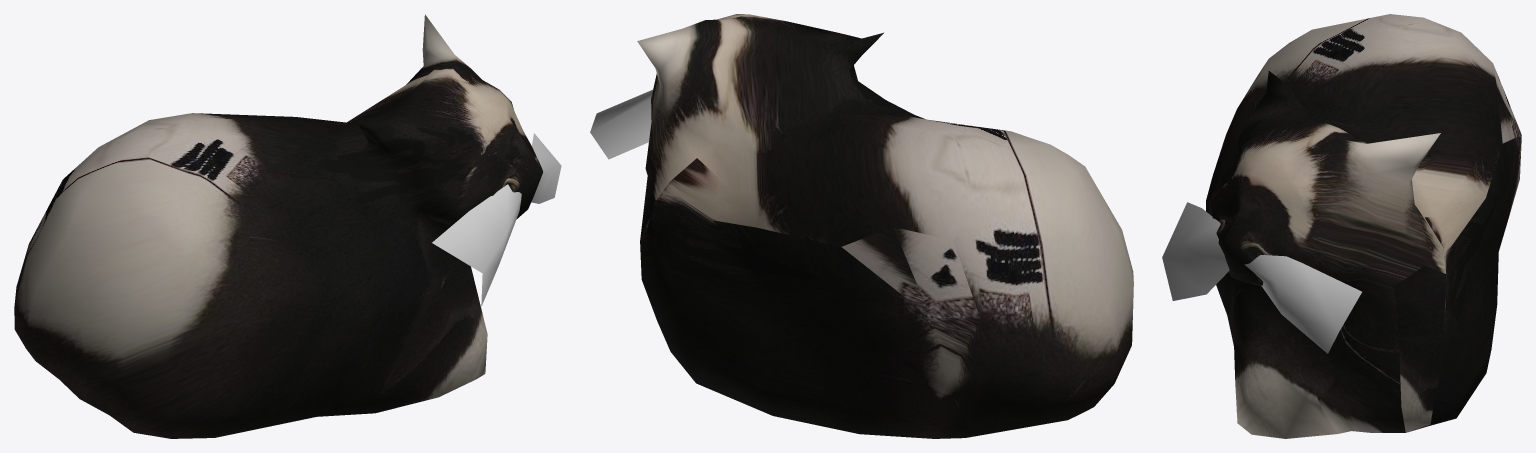
The model's file is maxwell.obj.
3 renders of one model, left to right at view 1: azimuth 30°, elevation 25°; view 2: azimuth 150°, elevation 25°; view 3: azimuth 270°, elevation 25°, orthographic. The views are drawn at different scales.
Visible parts, largest first — view 1: dingus; view 2: dingus; view 3: dingus.
Boxes of the visible parts, x1=… form: dingus: x1=14, y1=14, x2=561, y2=438; dingus: x1=590, y1=14, x2=1133, y2=438; dingus: x1=1162, y1=14, x2=1521, y2=438.
Bounding box in the file's own units: 33.23 × 19.21 × 18.75.
